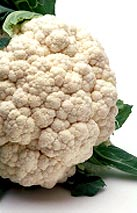cauliflower: (0, 13, 117, 187)
